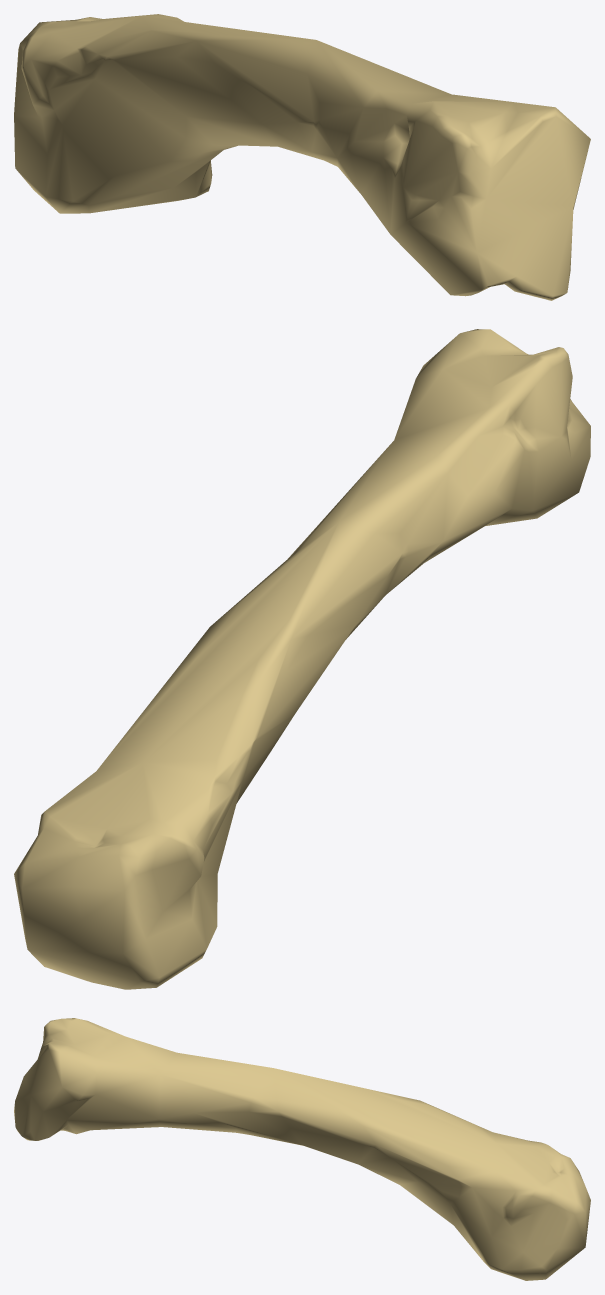
3 renders of one model, top to bottom at view 1: azimuth 30°, elevation 25°; view 2: azimuth 150°, elevation 25°; view 3: azimuth 270°, elevation 25°, orthographic. The views are drawn at different scales.
Parts seen in each view (by area): view 1: 右侧第四掌骨; view 2: 右侧第四掌骨; view 3: 右侧第四掌骨.
Part boxes in pixels (left/top/right/bottom): 右侧第四掌骨: left=14, top=14, right=590, bottom=300; 右侧第四掌骨: left=14, top=329, right=590, bottom=989; 右侧第四掌骨: left=14, top=1018, right=590, bottom=1280.
Size of the model in its own units: 0.0193 by 0.04 by 0.0915.
